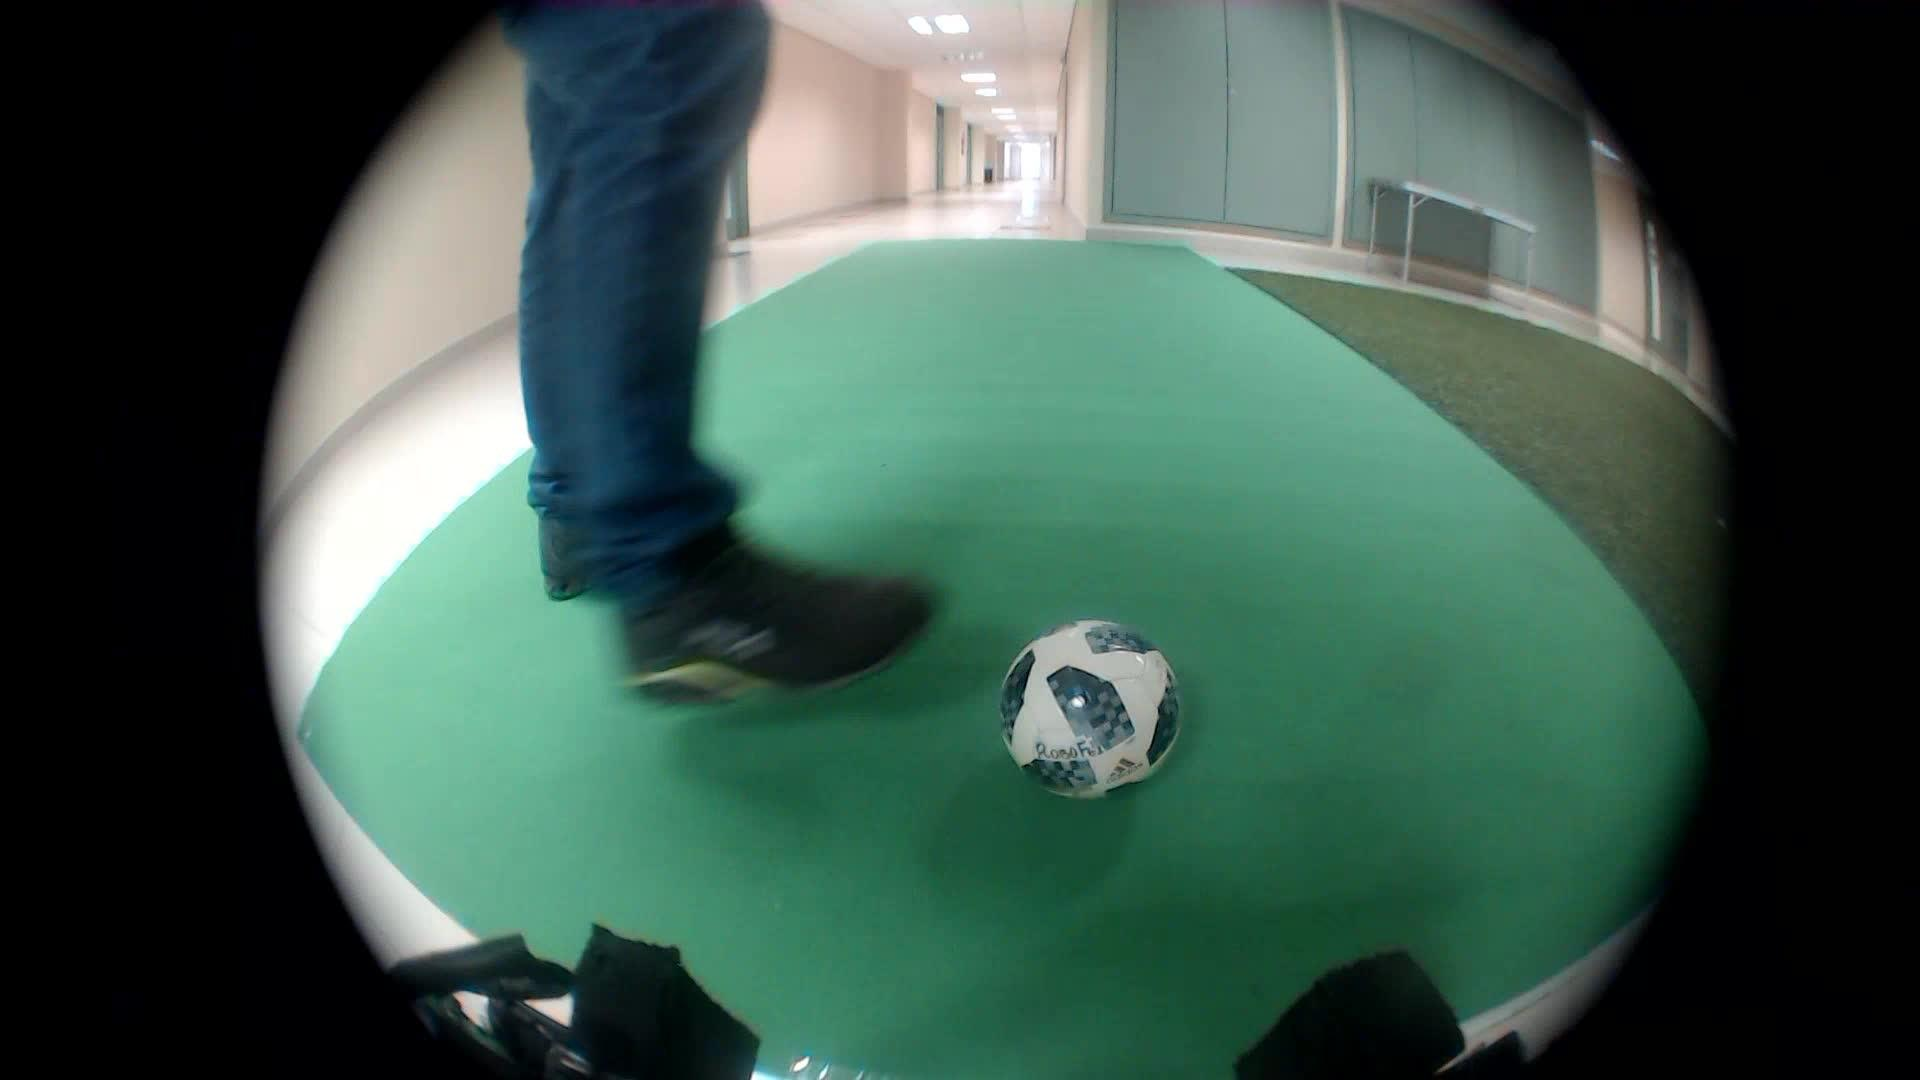ball: (973, 593, 1197, 804)
